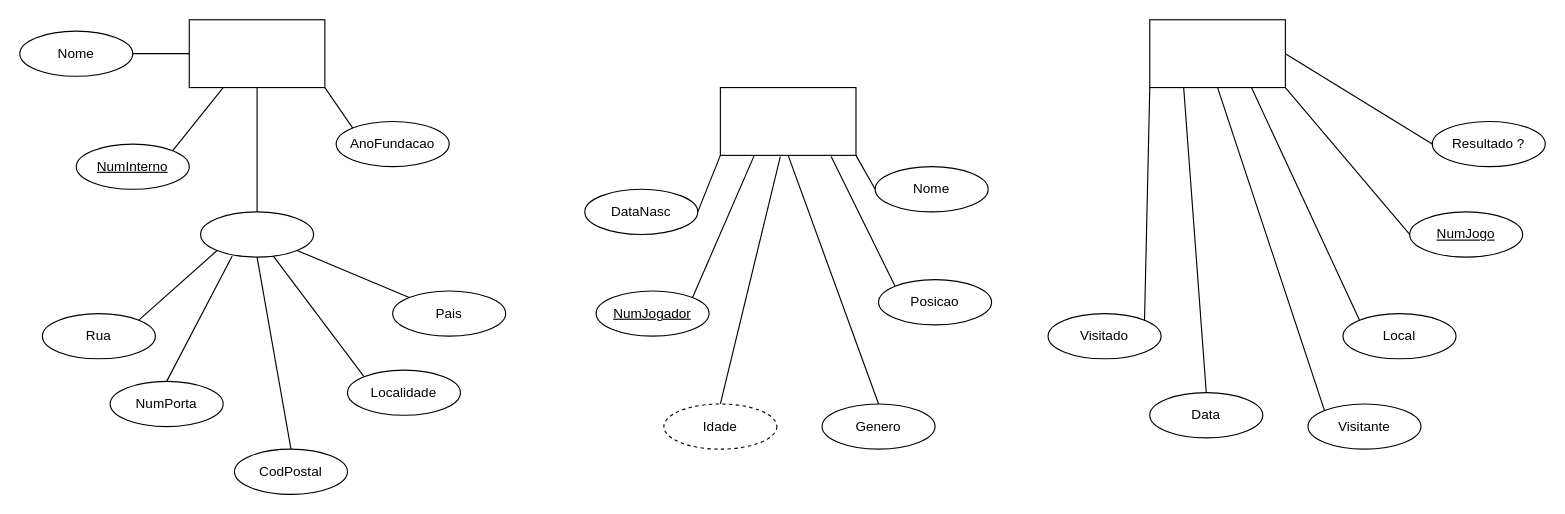
Image size: 1565x514. Some labels were removed from this diagram. Here are the shapes that lost their labels. From the top down, the centre of each, then its label:
At (256,53): "EQUIPA".
At (1217,53): "JOGO".
At (787,120): "JOGADOR".
At (256,234): "Morada".
